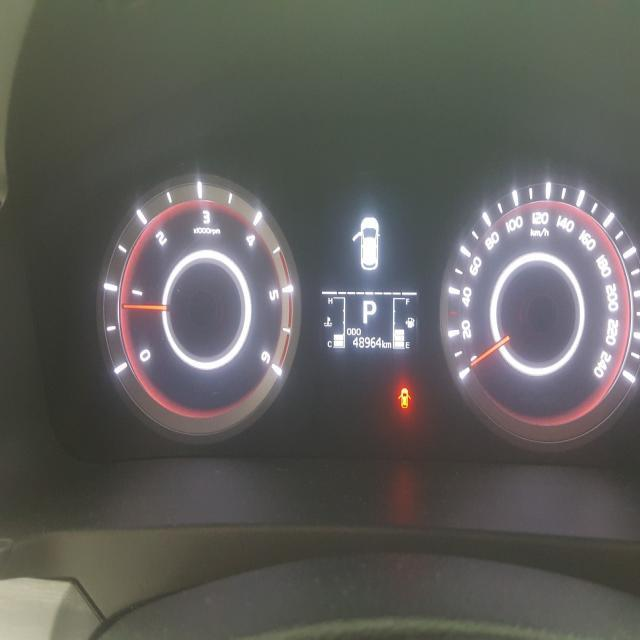Doors: (396, 386, 409, 408)
